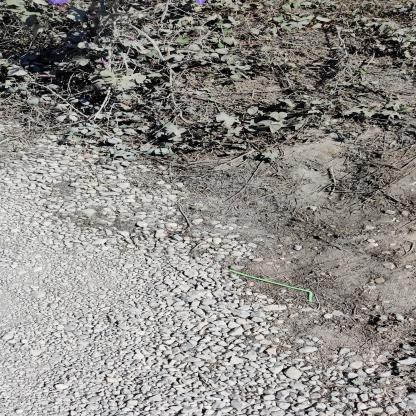plastik: (229, 270, 314, 304)
